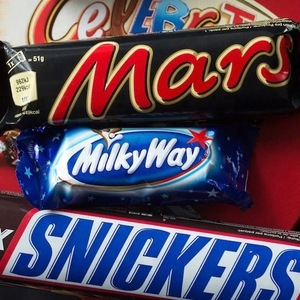snickers: (11, 211, 298, 299)
